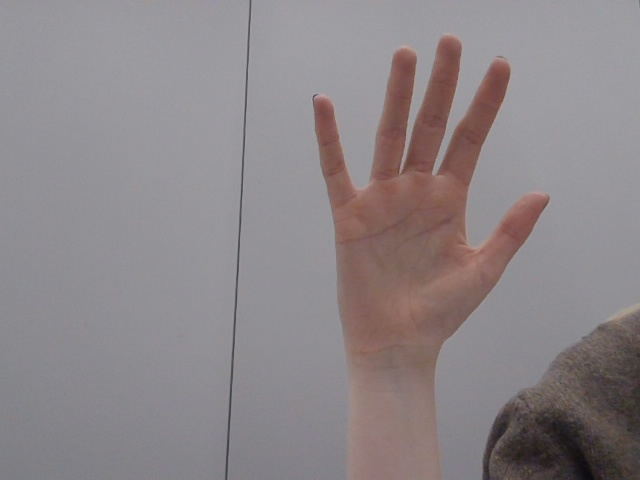nada: (278, 24, 561, 380)
